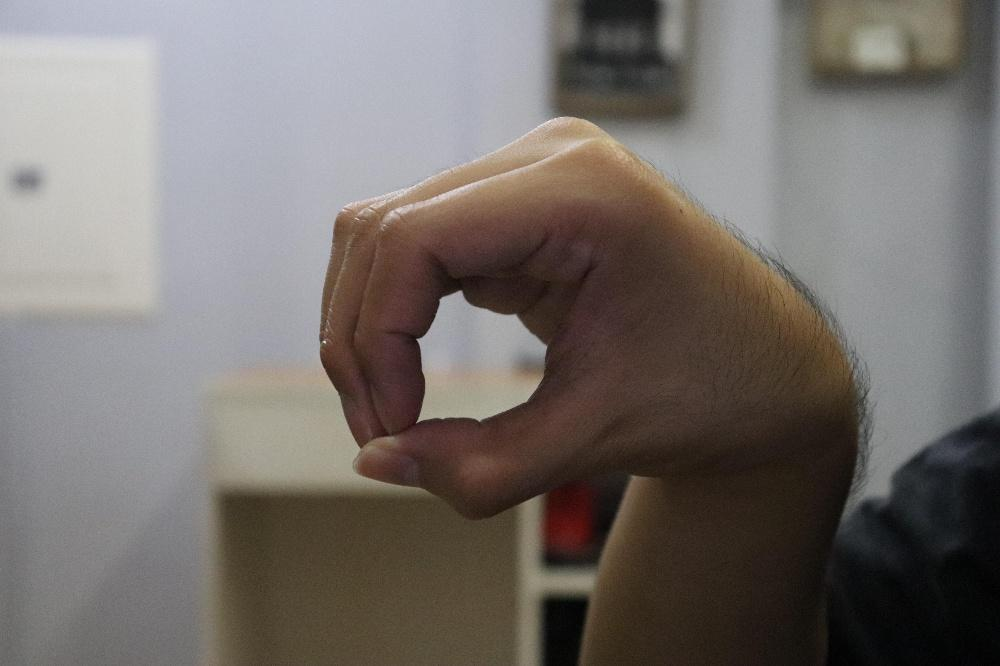o: (316, 112, 860, 522)
